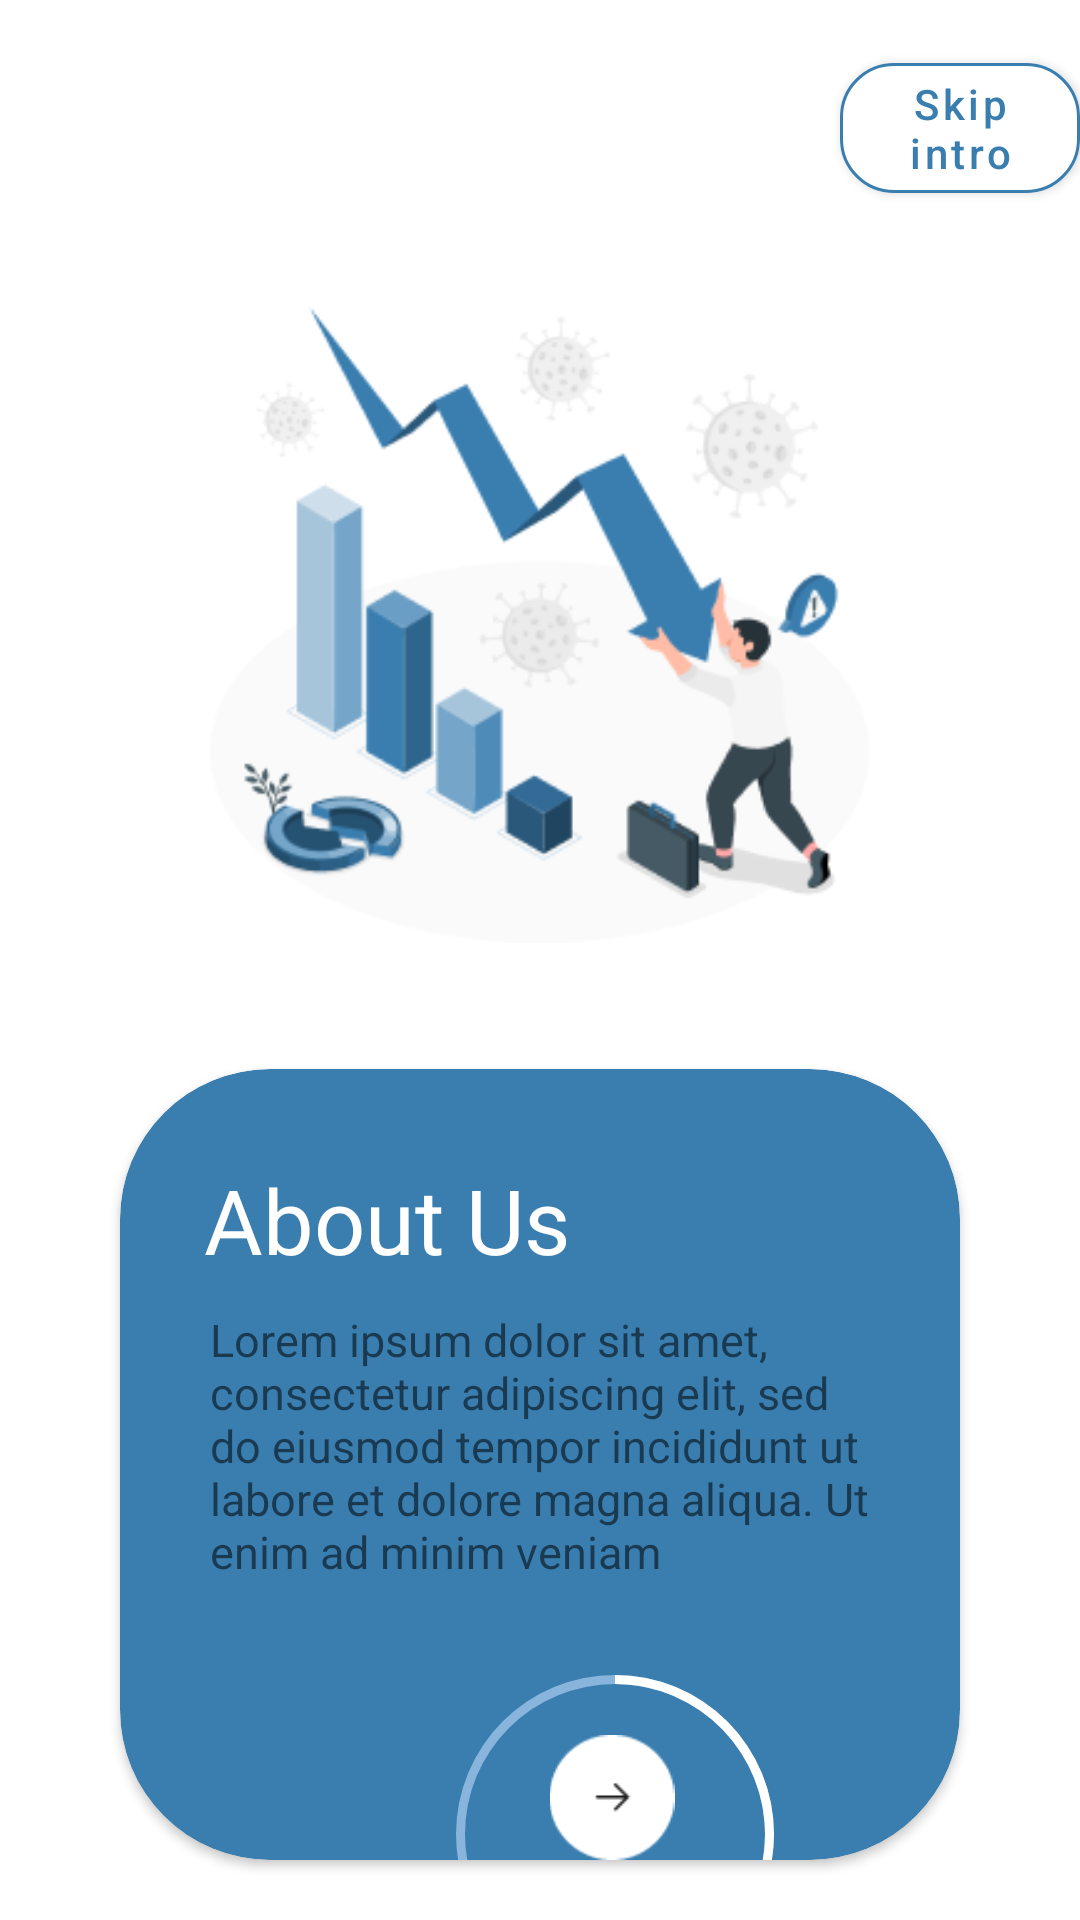

Icon bounding boxes for this 1080px x 1920px phone screenshot, format (x1, y1, x2, y2):
circle: (550, 1735, 675, 1860)
